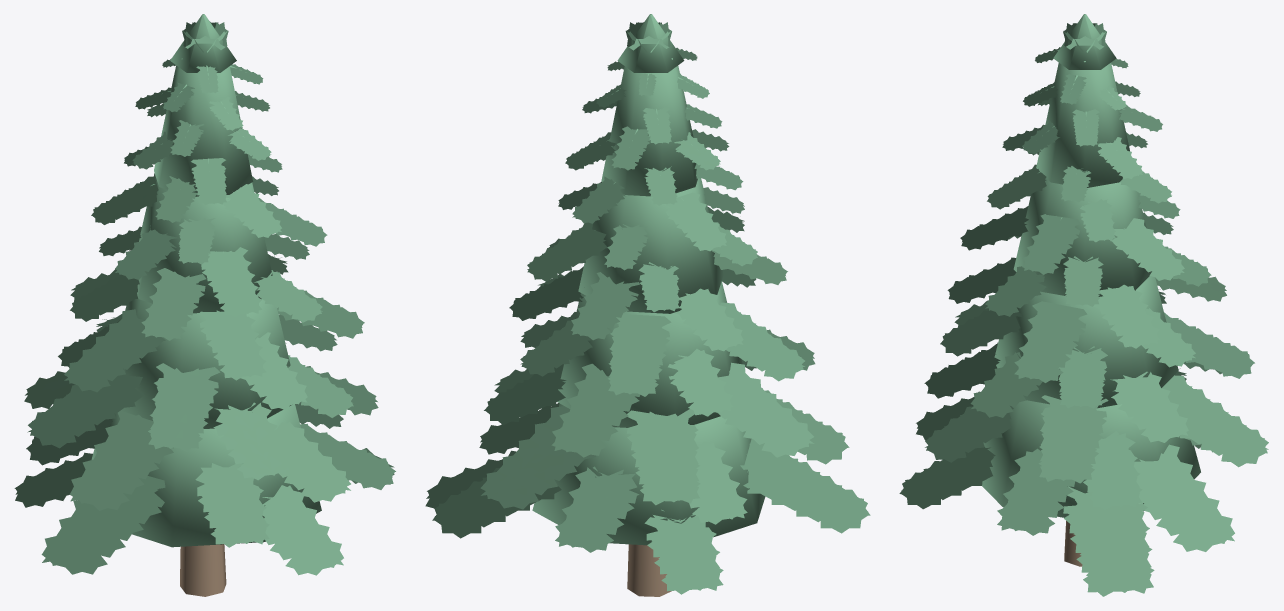
The model's file is tree_pine_B.glb.
The picture shows the model from 3 angles, left to right: view 1: azimuth 30°, elevation 25°; view 2: azimuth 150°, elevation 25°; view 3: azimuth 270°, elevation 25°; orthographic projection. The views are drawn at different scales.
Visible parts, largest first — view 1: tree_pine_B; view 2: tree_pine_B; view 3: tree_pine_B.
Boxes of the visible parts, x1,y1,x2,y2 form: tree_pine_B: [14, 14, 395, 596]; tree_pine_B: [425, 14, 870, 596]; tree_pine_B: [899, 14, 1268, 596].
Bounding box in the file's own units: 1.62 × 2.28 × 1.41.
